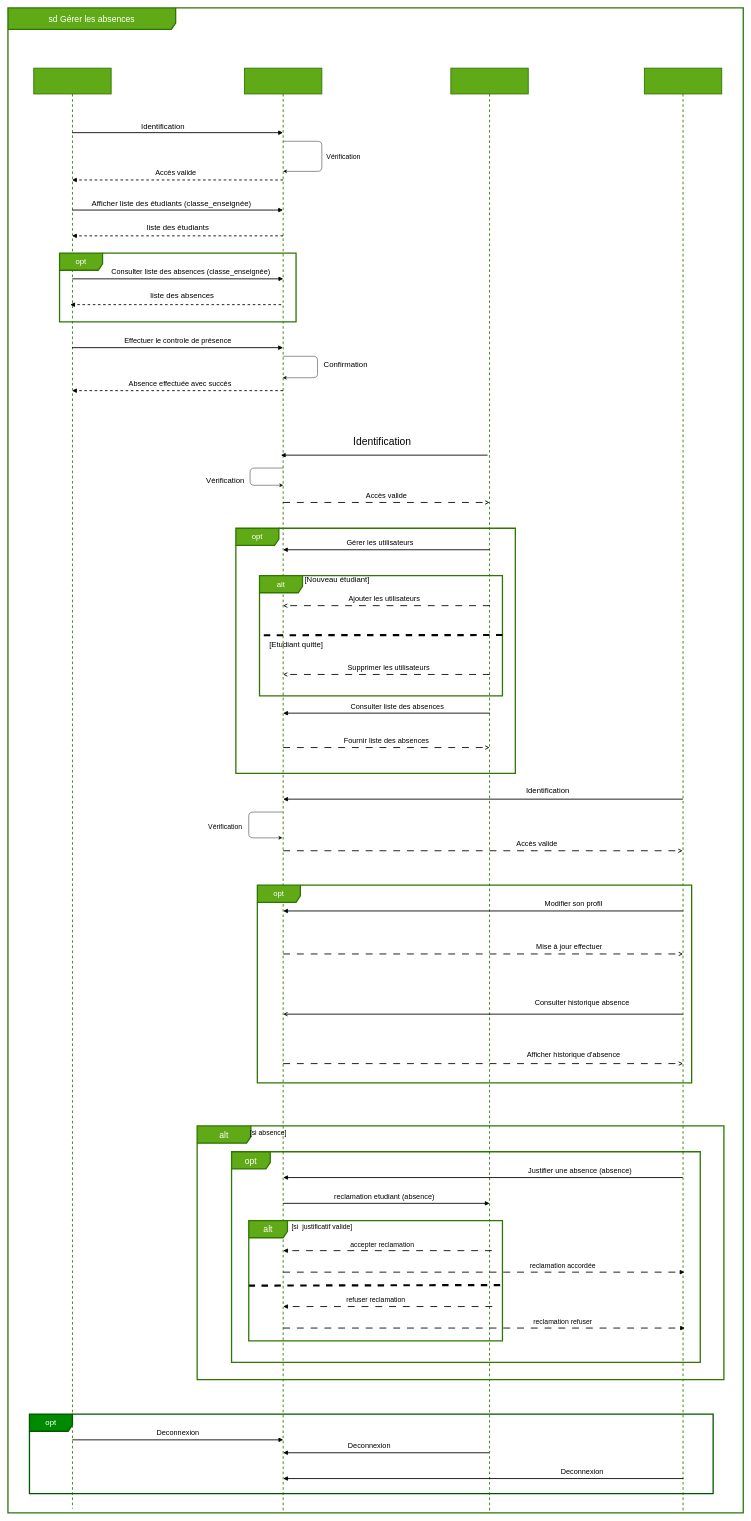
The diagram is 751 pixels wide and 1521 high, and some of its shapes have lost their labels. Here are the shapes that lost their labels. From the top down, the box of each, then its label:
(33, 68, 111, 1509): : Professeur
(244, 68, 322, 1513): : Système
(450, 68, 528, 1513): : Administration
(644, 68, 722, 1513): : Elèves
